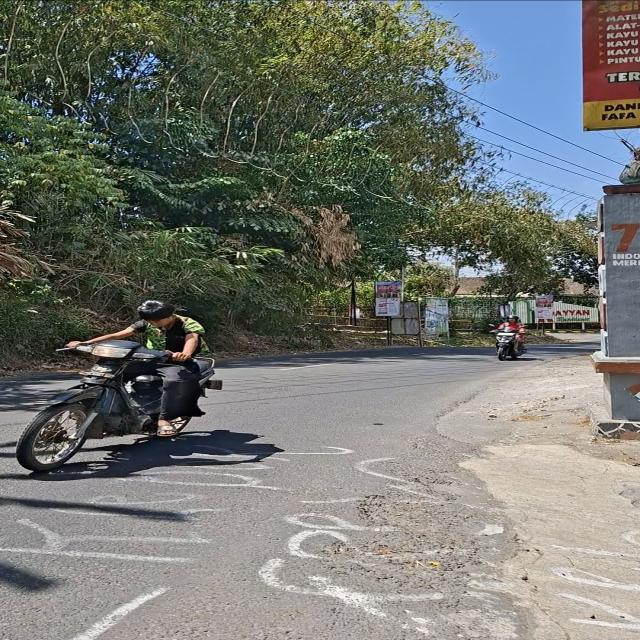WithHelmet: (489, 314, 527, 356)
WithoutHelmet: (61, 300, 211, 437)
